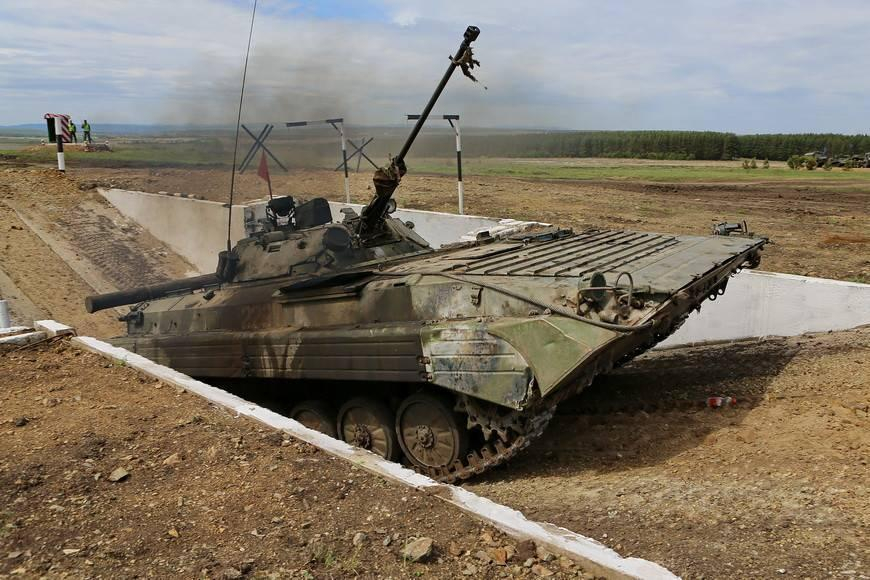person: (81, 119, 93, 142), (68, 120, 79, 142)
tank: (70, 187, 799, 500)
